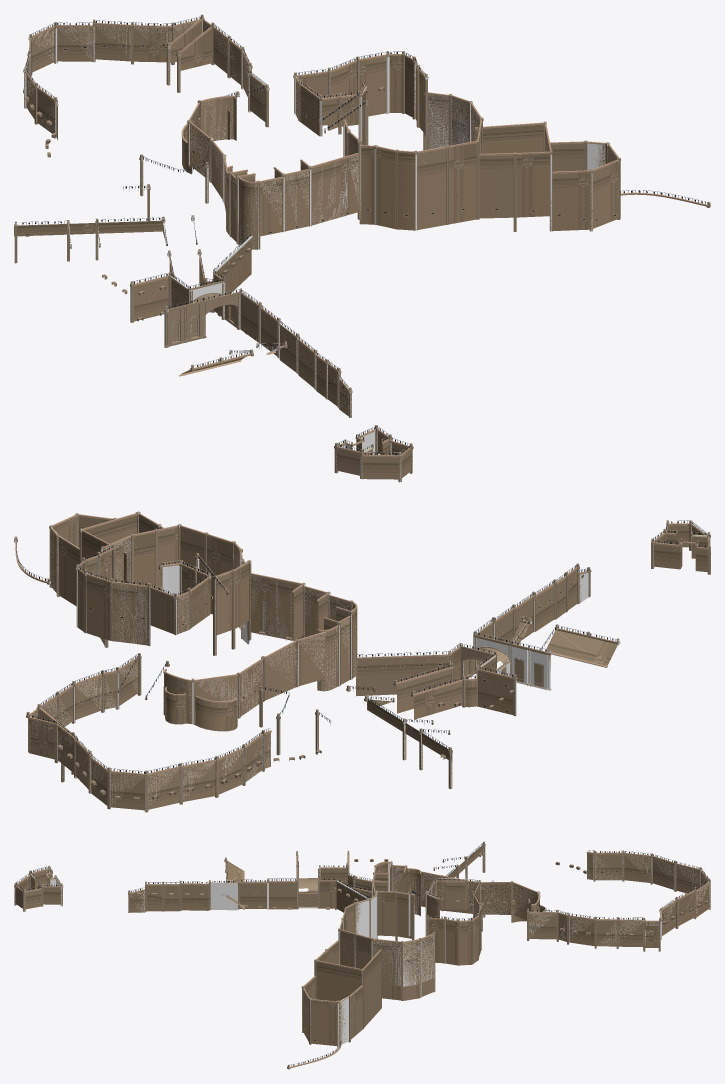
File: objects_un_c01wall03.gltf
The picture shows the model from 3 angles, top to bottom: view 1: azimuth 30°, elevation 25°; view 2: azimuth 150°, elevation 25°; view 3: azimuth 270°, elevation 25°; orthographic projection. The views are drawn at different scales.
Parts seen in each view (by area): view 1: um_objects_un_c01wall03_model_0__1_shape:objects_un_c01wall0 (×5), um_objects_un_c01wall03_model_0_1_shape:objects_un_c01wall02 (×3), um_objects_un_c01wall03_model_0__2_shape:objects_un_c01wall0 (×4), um_objects_un_c01wall03_model_0_0_shape:objects_un_c01wall02 (×4), um_objects_un_c01wall03_model_0_0_shape:objects_un_c01wall03, nomerge_objects_un_c01wall03_mesh1_0_0_shape:objects_un_c01w, um_objects_un_c01wall03_model_0_1_shape:objects_un_c01wall03, nomerge_objects_un_c01wall03_mesh1_0_1_shape:objects_un_c01w; view 2: um_objects_un_c01wall03_model_0__1_shape:objects_un_c01wall0 (×5), um_objects_un_c01wall03_model_0__2_shape:objects_un_c01wall0 (×4), um_objects_un_c01wall03_model_0_0_shape:objects_un_c01wall02 (×4), um_objects_un_c01wall03_model_0_1_shape:objects_un_c01wall02 (×3), um_objects_un_c01wall03_model_0_0_shape:objects_un_c01wall03, nomerge_objects_un_c01wall03_mesh1_0_1_shape:objects_un_c01w, nomerge_objects_un_c01wall03_mesh1_0_0_shape:objects_un_c01w; view 3: um_objects_un_c01wall03_model_0__1_shape:objects_un_c01wall0 (×4), um_objects_un_c01wall03_model_0__2_shape:objects_un_c01wall0 (×4), um_objects_un_c01wall03_model_0_0_shape:objects_un_c01wall02 (×4), um_objects_un_c01wall03_model_0_1_shape:objects_un_c01wall02 (×3), um_objects_un_c01wall03_model_0_0_shape:objects_un_c01wall03, um_objects_un_c01wall03_model_0_1_shape:objects_un_c01wall03, nomerge_objects_un_c01wall03_mesh1_0_1_shape:objects_un_c01w.
Boxes of the visible parts, x1=… form: um_objects_un_c01wall03_model_0__1_shape:objects_un_c01wall0 (×5): x1=14, y1=19, x2=373, y2=287; um_objects_un_c01wall03_model_0_1_shape:objects_un_c01wall02 (×3): x1=376, y1=123, x2=710, y2=231; um_objects_un_c01wall03_model_0__2_shape:objects_un_c01wall0 (×4): x1=170, y1=14, x2=546, y2=224; um_objects_un_c01wall03_model_0_0_shape:objects_un_c01wall02 (×4): x1=122, y1=247, x2=413, y2=482; um_objects_un_c01wall03_model_0_0_shape:objects_un_c01wall03: x1=130, y1=236, x2=412, y2=481; nomerge_objects_un_c01wall03_mesh1_0_0_shape:objects_un_c01w: x1=168, y1=303, x2=203, y2=346; um_objects_un_c01wall03_model_0_1_shape:objects_un_c01wall03: x1=415, y1=133, x2=710, y2=230; nomerge_objects_un_c01wall03_mesh1_0_1_shape:objects_un_c01w: x1=168, y1=291, x2=240, y2=327; um_objects_un_c01wall03_model_0__1_shape:objects_un_c01wall0 (×5): x1=49, y1=560, x2=503, y2=812; um_objects_un_c01wall03_model_0__2_shape:objects_un_c01wall0 (×4): x1=26, y1=528, x2=244, y2=759; um_objects_un_c01wall03_model_0_0_shape:objects_un_c01wall02 (×4): x1=357, y1=520, x2=710, y2=716; um_objects_un_c01wall03_model_0_1_shape:objects_un_c01wall02 (×3): x1=14, y1=511, x2=242, y2=628; um_objects_un_c01wall03_model_0_0_shape:objects_un_c01wall03: x1=357, y1=520, x2=710, y2=715; nomerge_objects_un_c01wall03_mesh1_0_1_shape:objects_un_c01w: x1=464, y1=634, x2=547, y2=678; nomerge_objects_un_c01wall03_mesh1_0_0_shape:objects_un_c01w: x1=497, y1=656, x2=547, y2=688; um_objects_un_c01wall03_model_0__1_shape:objects_un_c01wall0 (×4): x1=348, y1=841, x2=710, y2=951; um_objects_un_c01wall03_model_0__2_shape:objects_un_c01wall0 (×4): x1=356, y1=883, x2=661, y2=1028; um_objects_un_c01wall03_model_0_0_shape:objects_un_c01wall02 (×4): x1=14, y1=851, x2=361, y2=912; um_objects_un_c01wall03_model_0_1_shape:objects_un_c01wall02 (×3): x1=287, y1=899, x2=368, y2=1069; um_objects_un_c01wall03_model_0_0_shape:objects_un_c01wall03: x1=14, y1=852, x2=368, y2=912; um_objects_un_c01wall03_model_0_1_shape:objects_un_c01wall03: x1=287, y1=900, x2=369, y2=1068; nomerge_objects_un_c01wall03_mesh1_0_1_shape:objects_un_c01w: x1=296, y1=854, x2=318, y2=907.
Size of what is drawn, in the model's own units: 210 by 47.09 by 298.
Materials: 10 (9 with a texture image).
